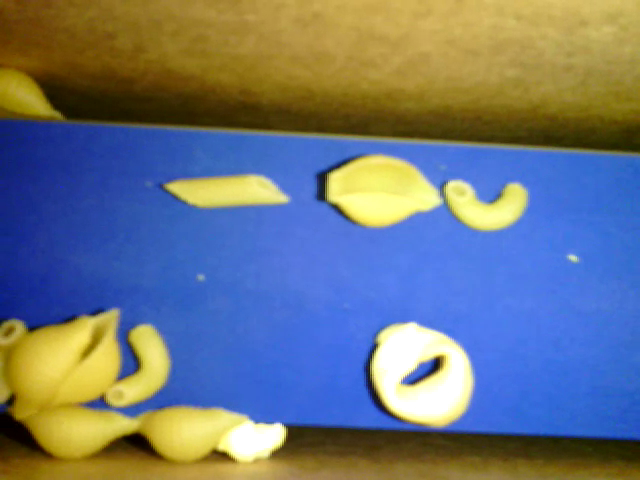elbow: (103, 318, 173, 408), (446, 178, 529, 234), (1, 318, 30, 408)
penne: (161, 171, 288, 214)
shell: (8, 314, 94, 420), (322, 153, 444, 227), (47, 304, 127, 410), (7, 406, 141, 462), (128, 409, 249, 464), (1, 66, 64, 123)
tortellini: (369, 317, 475, 426)
